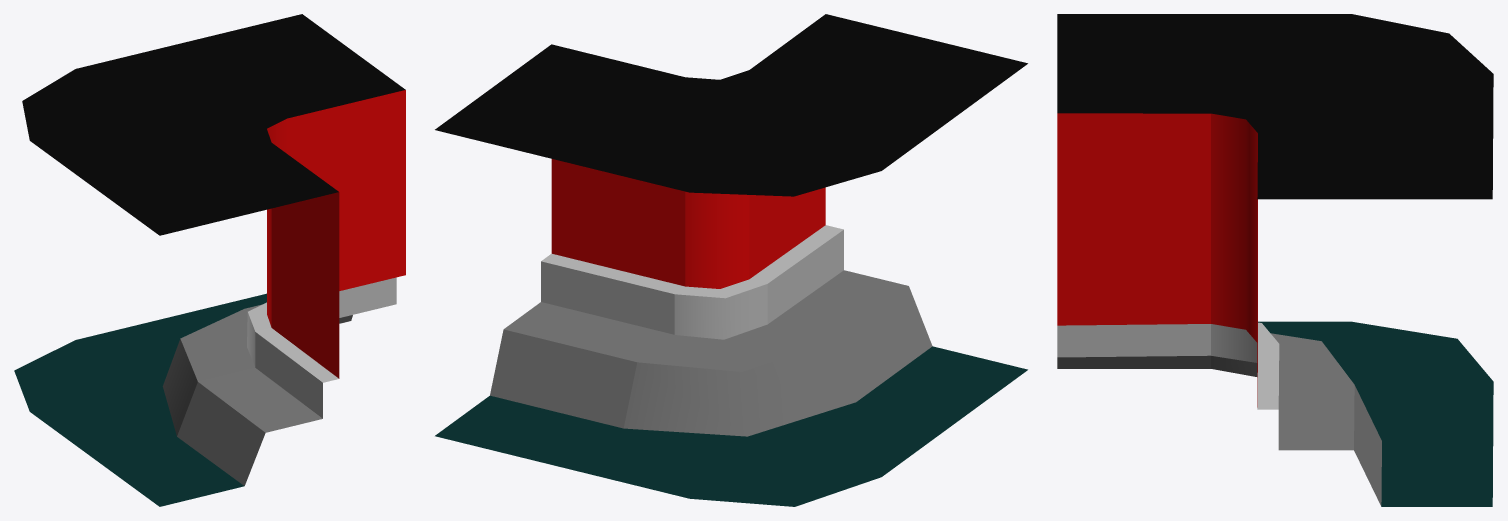
The model's file is curva_interna.fbx.
The picture shows the model from 3 angles, left to right: view 1: azimuth 30°, elevation 25°; view 2: azimuth 150°, elevation 25°; view 3: azimuth 270°, elevation 25°; orthographic projection. The views are drawn at different scales.
Visible parts, largest first — view 1: pieza_curva_interna; view 2: pieza_curva_interna; view 3: pieza_curva_interna.
Boxes of the visible parts, box(x1,y1,x2,y2) form: pieza_curva_interna: box(14, 14, 405, 506); pieza_curva_interna: box(435, 14, 1027, 506); pieza_curva_interna: box(1057, 14, 1493, 506).
Bounding box in the file's own units: 48.77 × 37.8 × 48.55.
